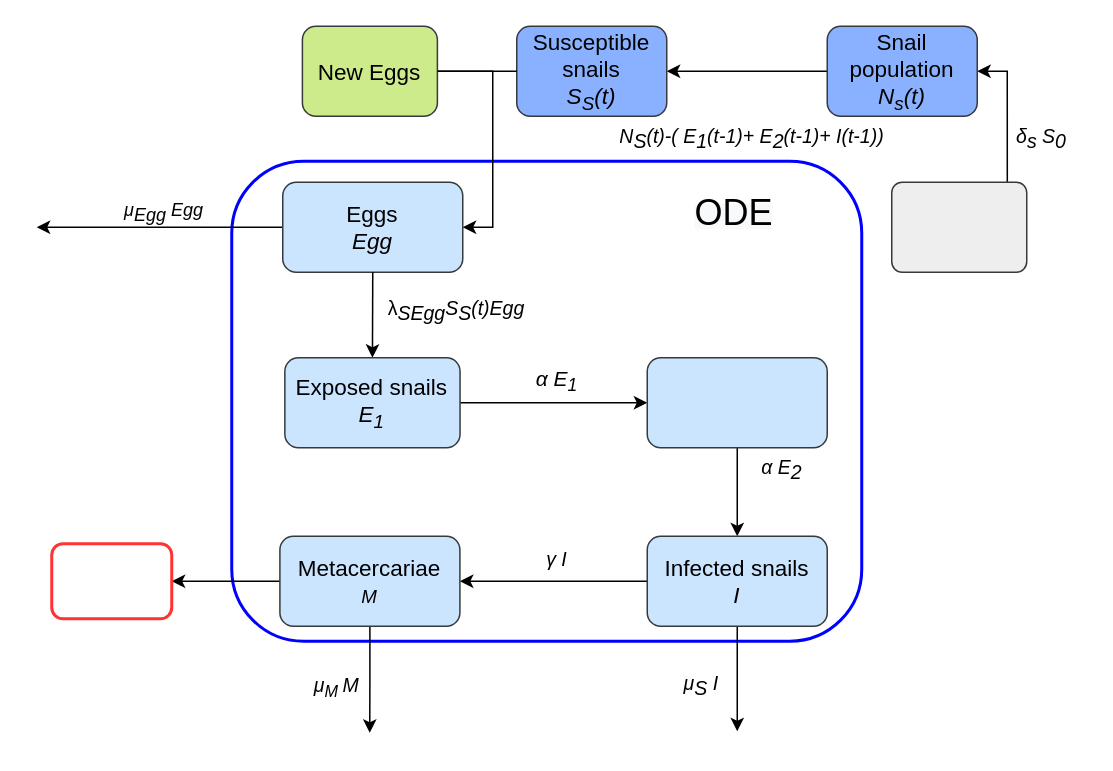
Image size: 1113x771. Some labels were removed from this diagram. Here are the shapes that lost their labels. From the top down, the centre of each, then its label:
At [958,226]: "Baseline population S 0".
At [736,402]: "Exposed snails E 2".
At [111,581]: "IBM".
